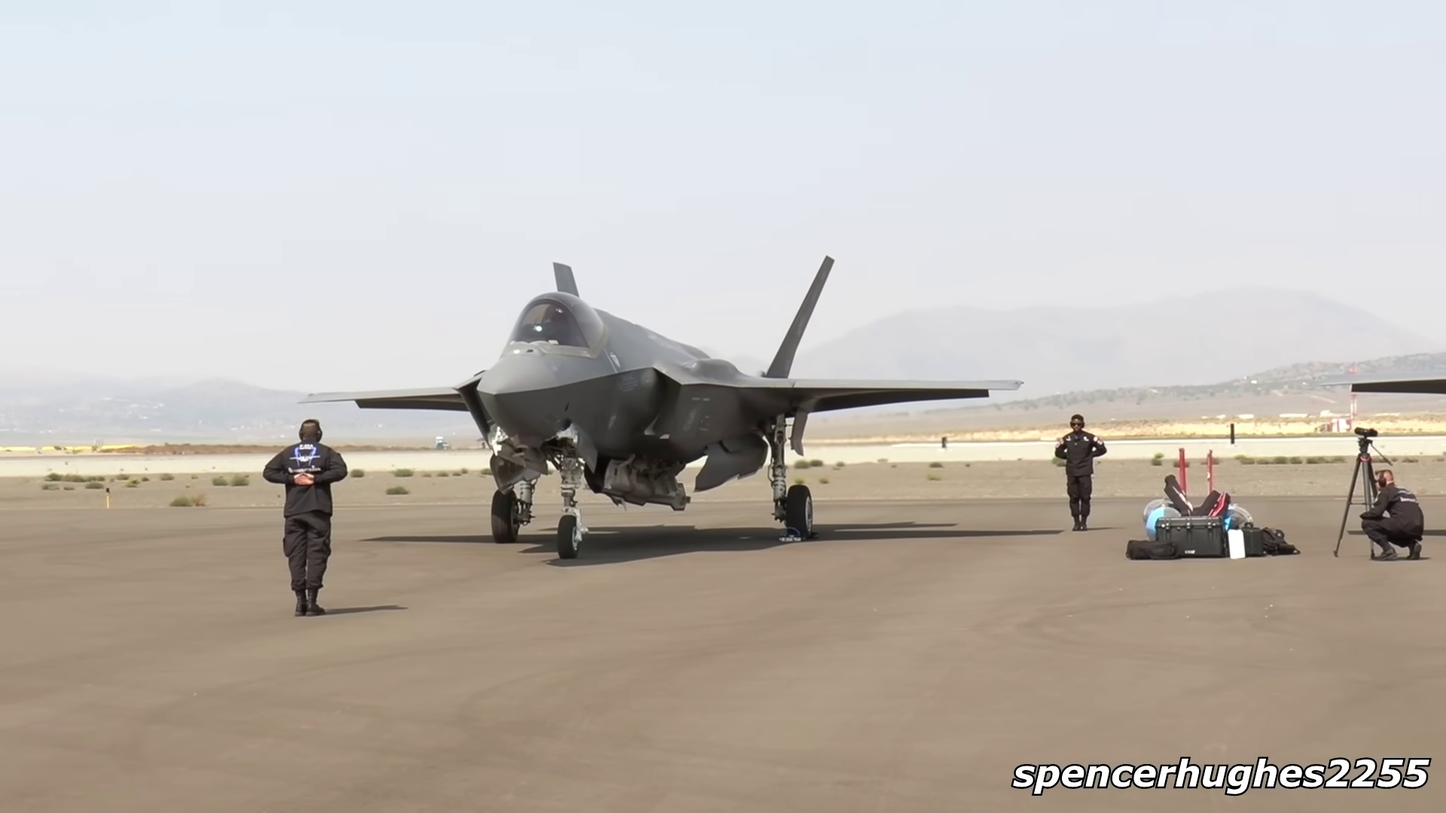F35: (290, 252, 1031, 564)
